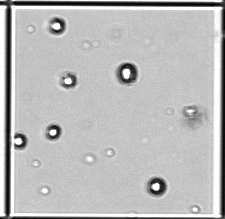Living Cell: (117, 62, 137, 84), (148, 177, 165, 196), (48, 17, 66, 34), (60, 72, 78, 88), (46, 124, 61, 140), (13, 133, 26, 149), (85, 153, 97, 165), (39, 186, 50, 195), (31, 158, 41, 167), (191, 204, 200, 214), (105, 149, 114, 157)
